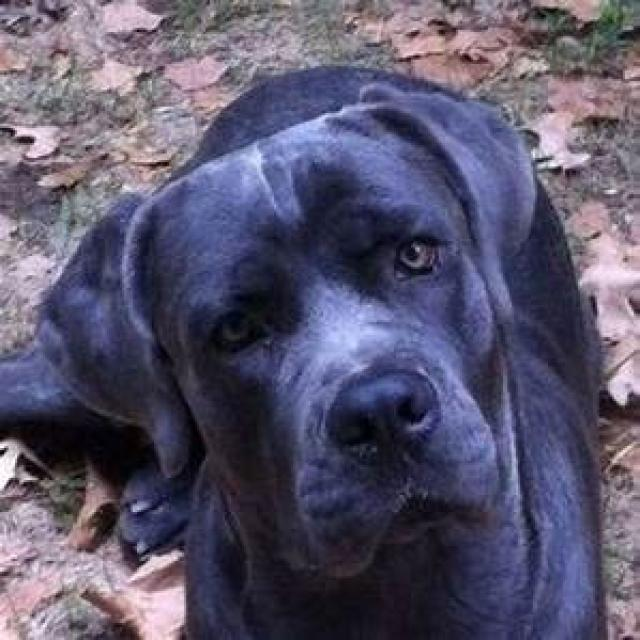dog: (0, 68, 608, 640)
